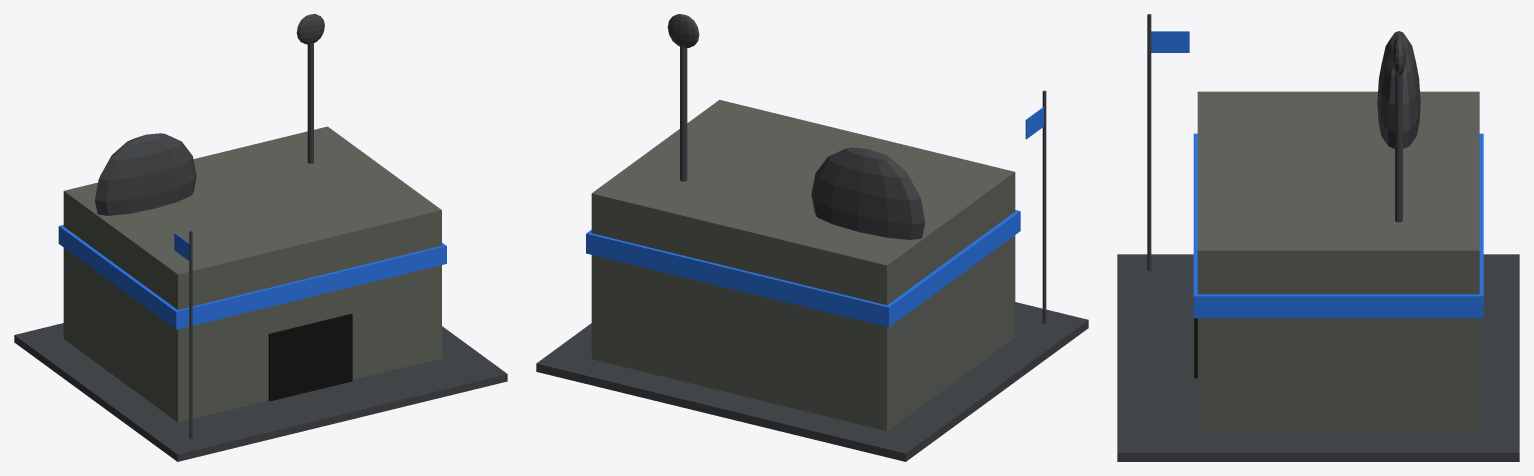
The model's file is eu_command_hq.glb.
3 renders of one model, left to right at view 1: azimuth 30°, elevation 25°; view 2: azimuth 150°, elevation 25°; view 3: azimuth 270°, elevation 25°, orthographic. The views are drawn at different scales.
Visible parts, largest first — view 1: main, base, team_band, dish_big, door, mast, flagpole, dish; view 2: main, base, team_band, dish_big, flagpole, mast, dish; view 3: main, base, team_band, dish_big, flagpole, mast, flag, dish.
Boxes of the visible parts, x1,y1,x2,y2 form: main: [63, 126, 441, 422]; base: [14, 323, 507, 461]; team_band: [58, 225, 446, 329]; dish_big: [95, 133, 196, 215]; door: [268, 314, 352, 401]; mast: [307, 42, 313, 163]; flagpole: [189, 230, 192, 439]; dish: [296, 14, 324, 44]; main: [591, 99, 1015, 430]; base: [536, 302, 1088, 461]; team_band: [586, 210, 1020, 327]; dish_big: [811, 147, 925, 239]; flagpole: [1042, 90, 1046, 323]; mast: [680, 45, 687, 181]; dish: [667, 14, 699, 47]; main: [1197, 91, 1479, 432]; base: [1117, 254, 1519, 461]; team_band: [1193, 133, 1483, 318]; dish_big: [1377, 31, 1420, 148]; flagpole: [1147, 14, 1151, 270]; mast: [1395, 73, 1402, 222]; flag: [1151, 31, 1189, 52]; dish: [1392, 36, 1405, 76].
Bounding box in the file's own units: 14 × 12.3 × 12.
